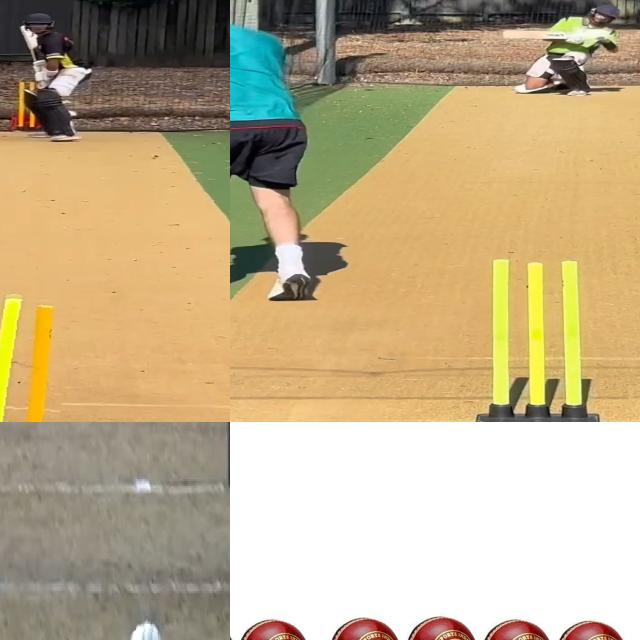Cricket ball: (329, 611, 403, 640), (404, 611, 478, 640), (236, 614, 313, 640), (479, 613, 553, 640), (555, 615, 629, 640), (130, 615, 170, 640)
Stumps: (472, 259, 601, 422), (0, 290, 72, 422)
